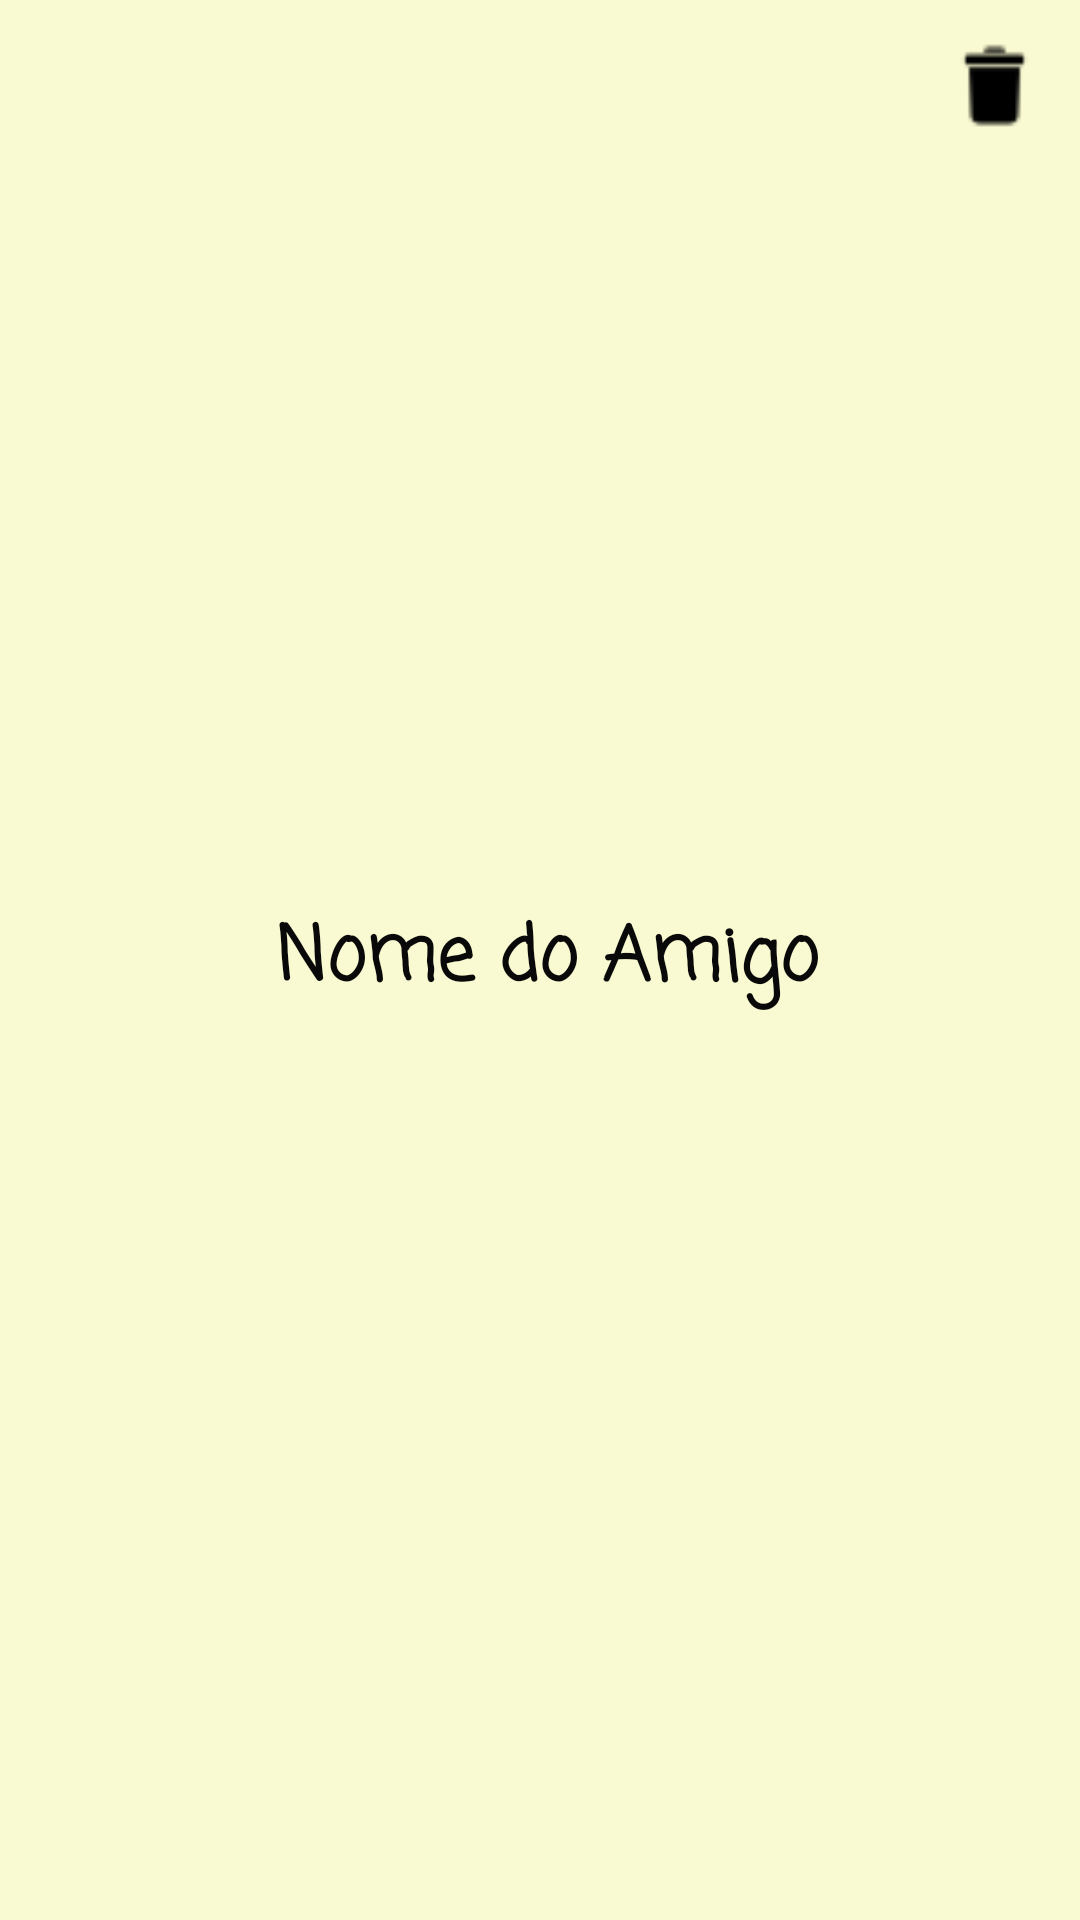

Icon click points for this 1080 × 1920 phone screenshot, format [x,y]:
lixo: [994,86]
